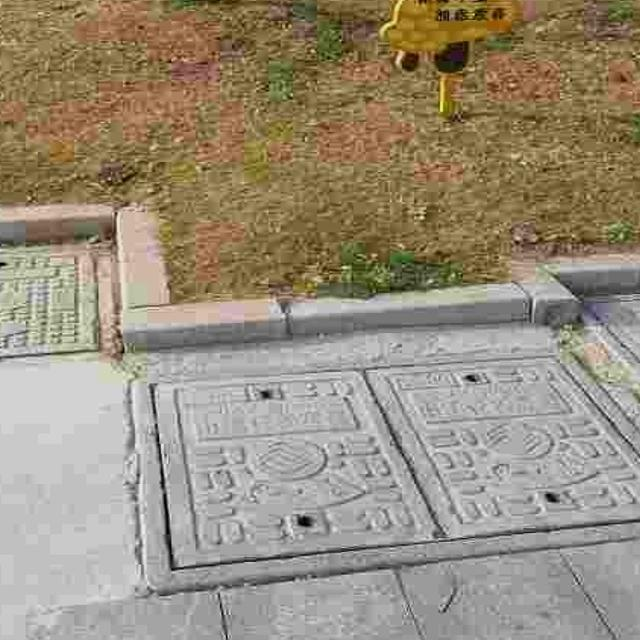good: (129, 340, 640, 603), (0, 234, 105, 397), (576, 278, 640, 436)
